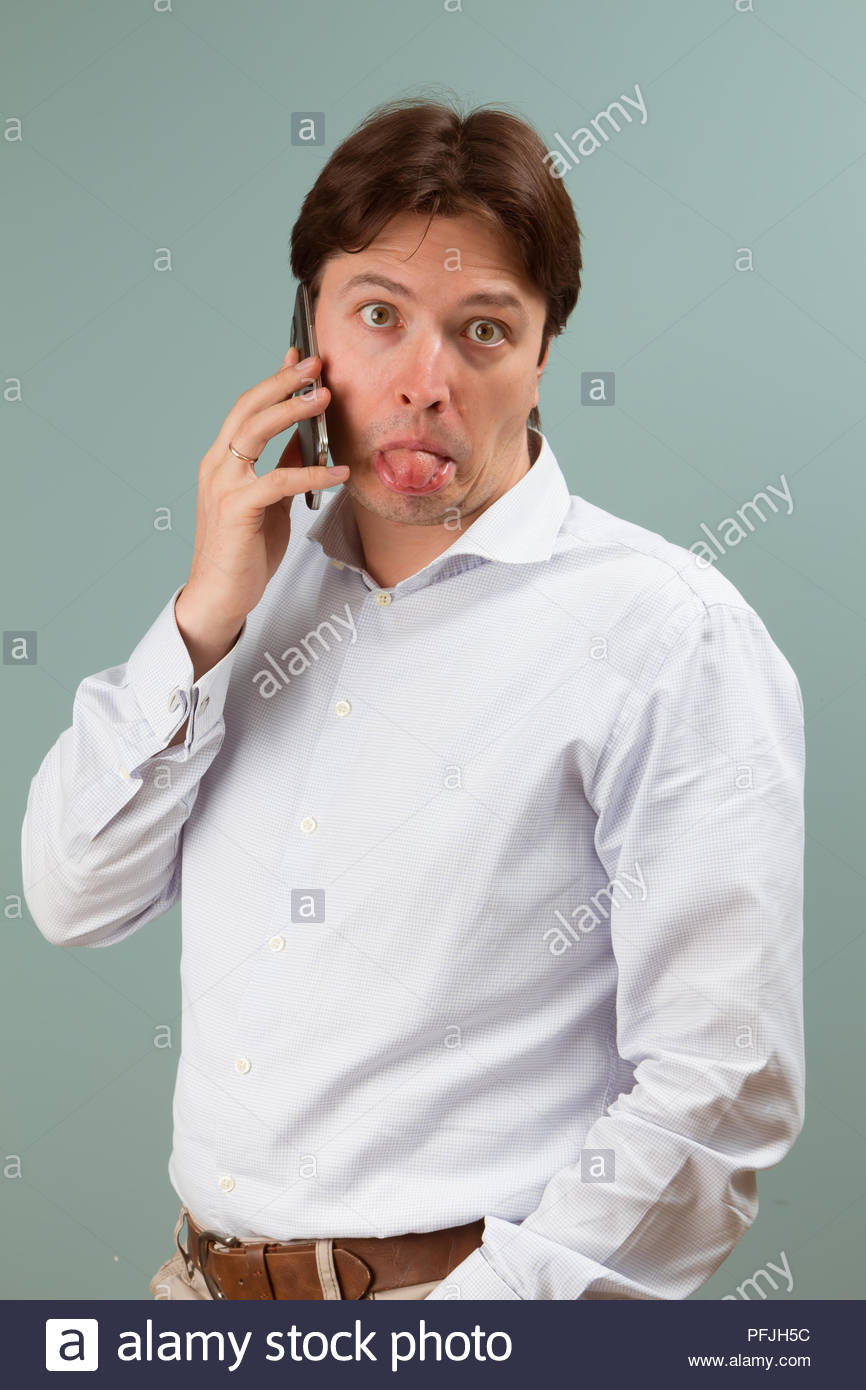phone: (254, 296, 348, 477)
talk: (184, 255, 541, 617)
